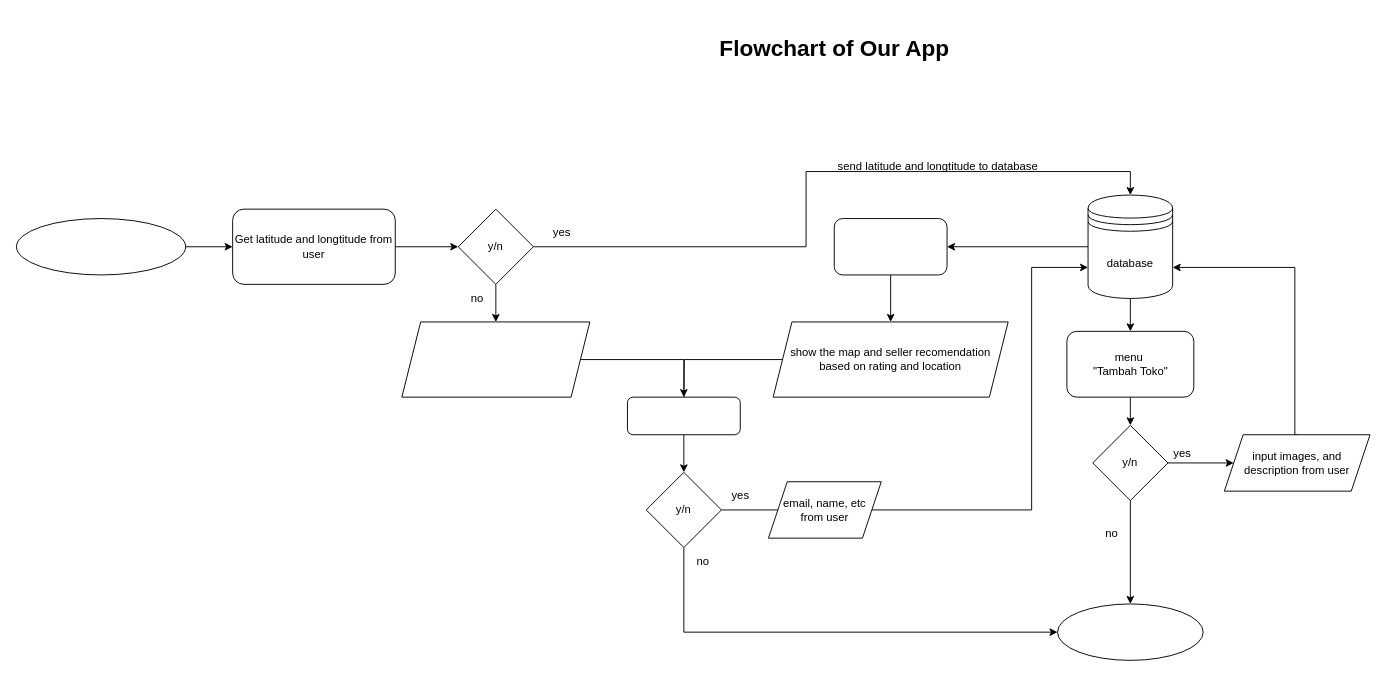
Image size: 1387x677. Some labels were removed from this diagram. The shapes that lost their labels are listed below. From the top down, each one's box as (x1, y1, x2, y2) in pixels, then its label:
(16, 218, 186, 275): START
(833, 218, 947, 275): send it again to landing page
(401, 321, 590, 397): show the map and seller recomendation based on rating
(627, 396, 740, 435): LOGIN
(1057, 603, 1203, 660): FINISH
